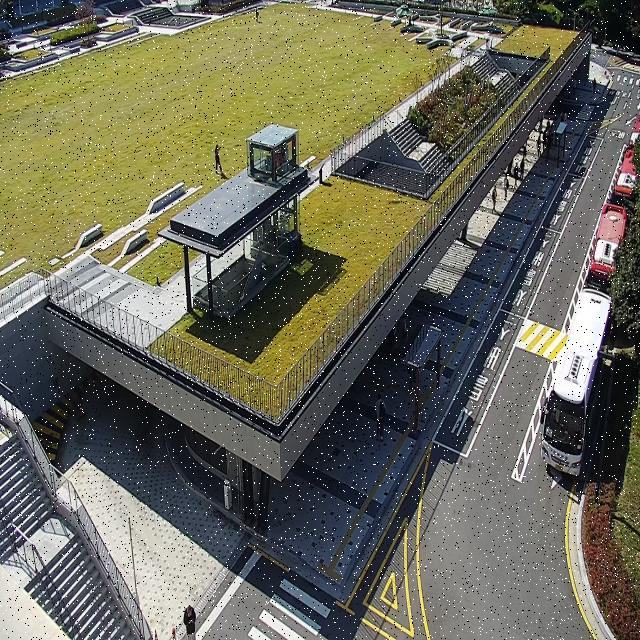queue: (416, 327, 442, 439)
